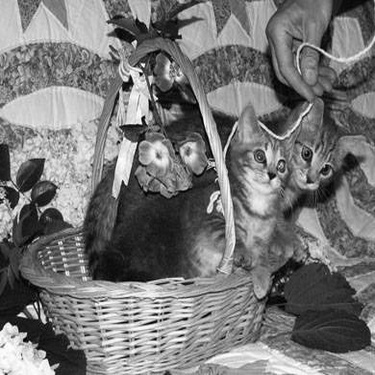cat: (73, 95, 365, 275), (81, 98, 300, 300)
